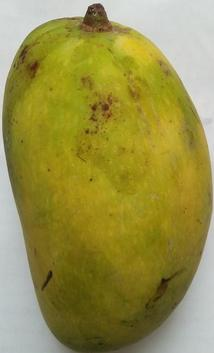PartiallyRipe: (0, 1, 214, 353)
